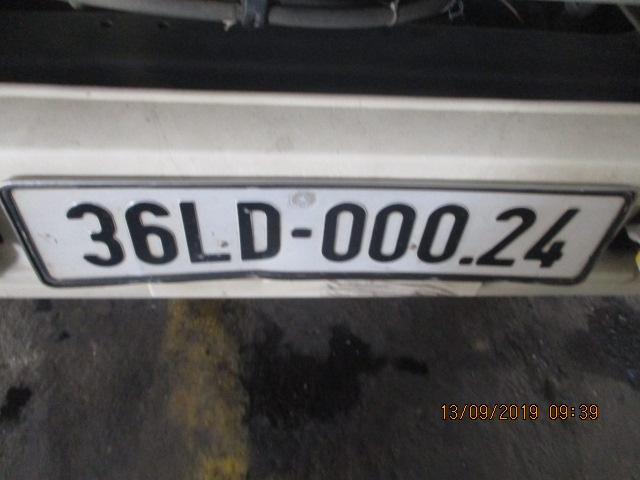number_plate: (61, 196, 576, 276)
